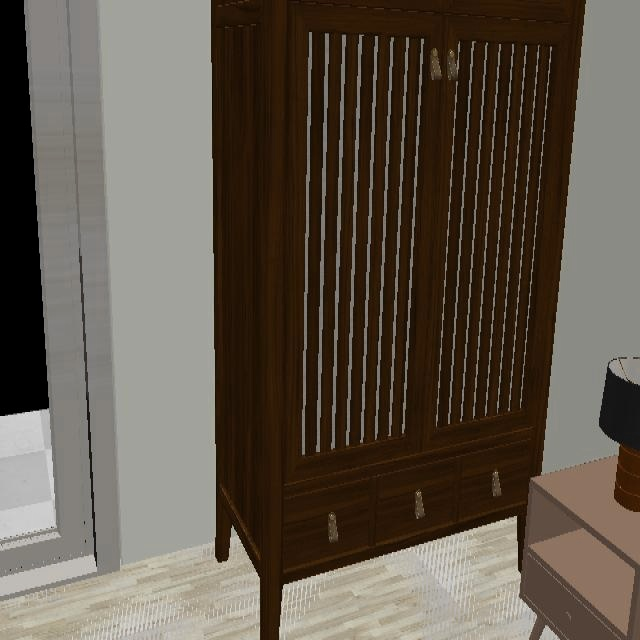lamp: (597, 356, 640, 511)
nighttable: (520, 455, 640, 640)
wardrobe: (214, 0, 585, 640)
